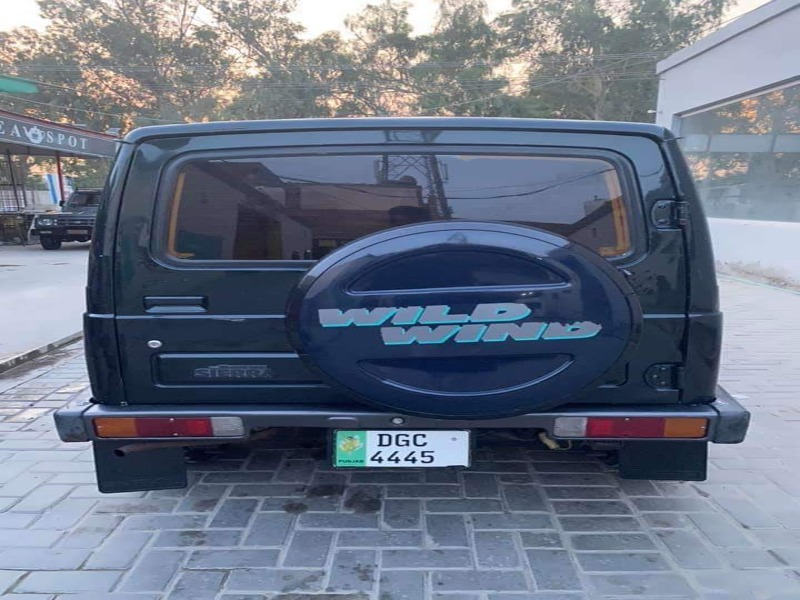License Plate: (330, 428, 478, 474)
